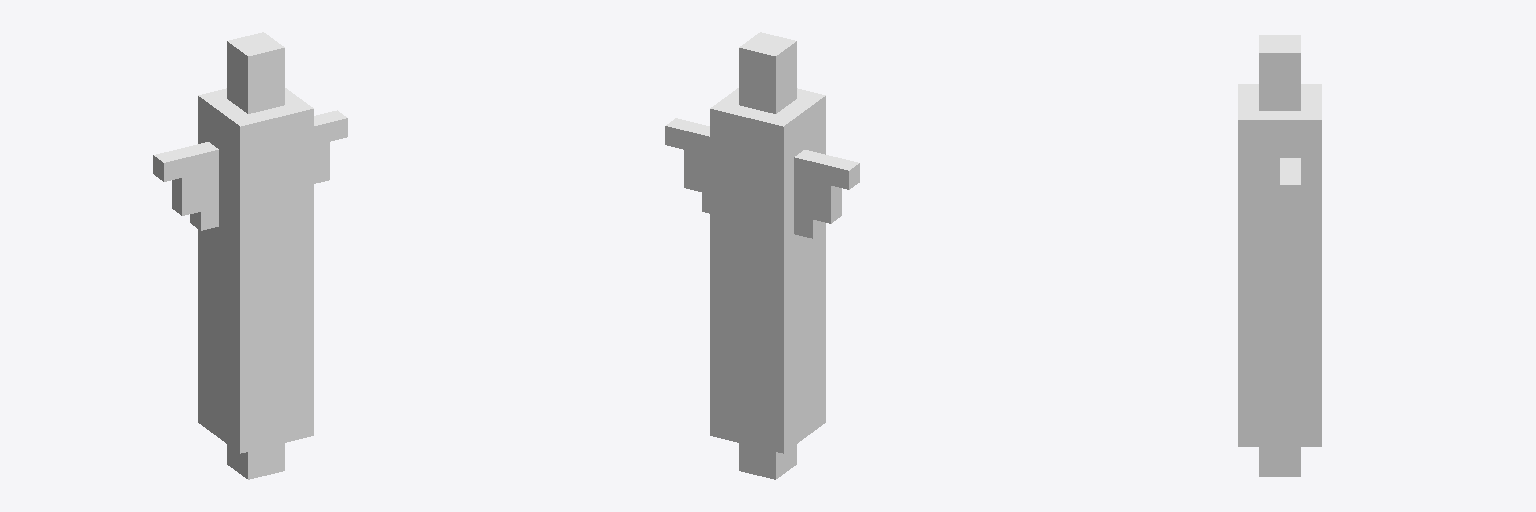
The model's file is missile.obj.
3 views of the same model, side by side, from view 1: azimuth 30°, elevation 25°; view 2: azimuth 150°, elevation 25°; view 3: azimuth 270°, elevation 25° (orthographic).
Visible parts, largest first — view 1: missile; view 2: missile; view 3: missile.
Boxes of the visible parts, <box> form: missile: <box>153,32,347,479</box>; missile: <box>665,32,859,479</box>; missile: <box>1238,35,1321,476</box>.
Bounding box in the file's own units: 1 × 2.2 × 0.4.